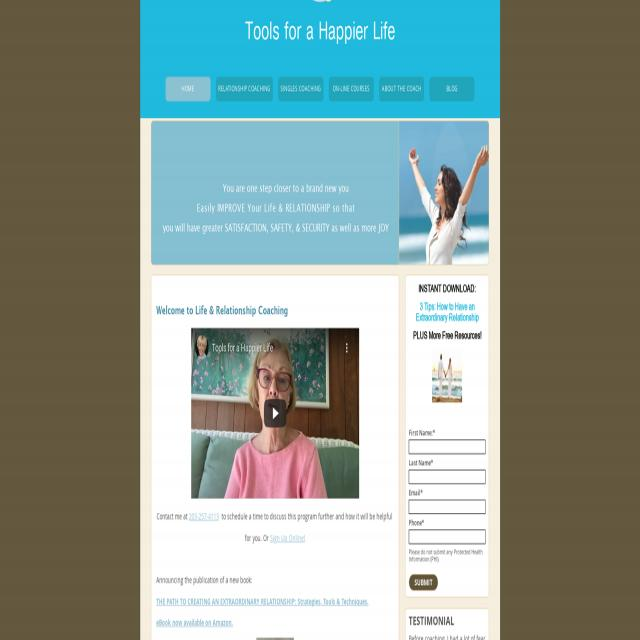button: (191, 328, 359, 499), (432, 348, 462, 402), (216, 76, 273, 102), (278, 76, 324, 102), (328, 76, 374, 102), (379, 76, 424, 102), (430, 76, 474, 102), (166, 76, 210, 101), (264, 399, 287, 427), (409, 574, 438, 591), (342, 336, 352, 360)
field: (408, 469, 486, 484), (408, 440, 486, 454), (408, 500, 486, 514), (408, 530, 486, 544)
